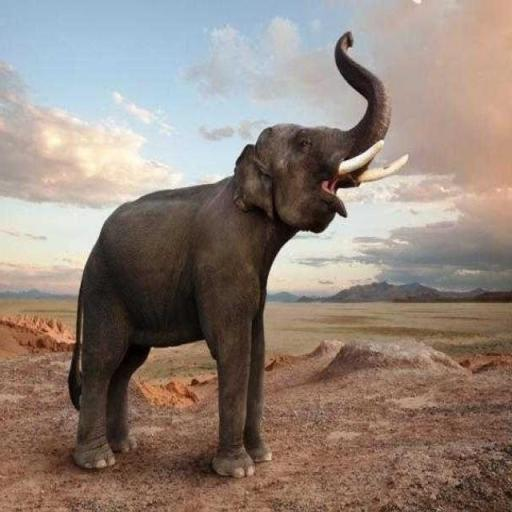Elephant: (67, 29, 409, 479)
